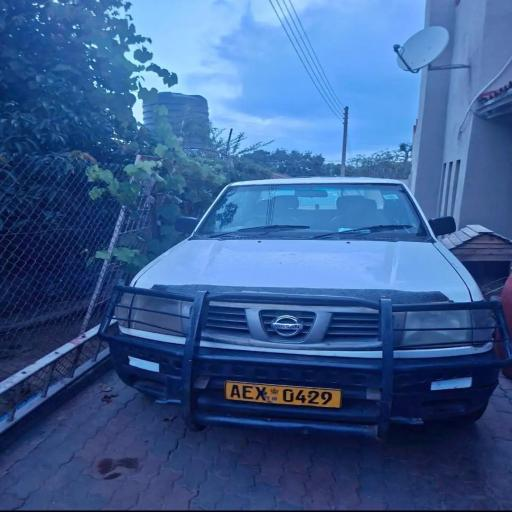number-plates: (223, 380, 339, 408)
